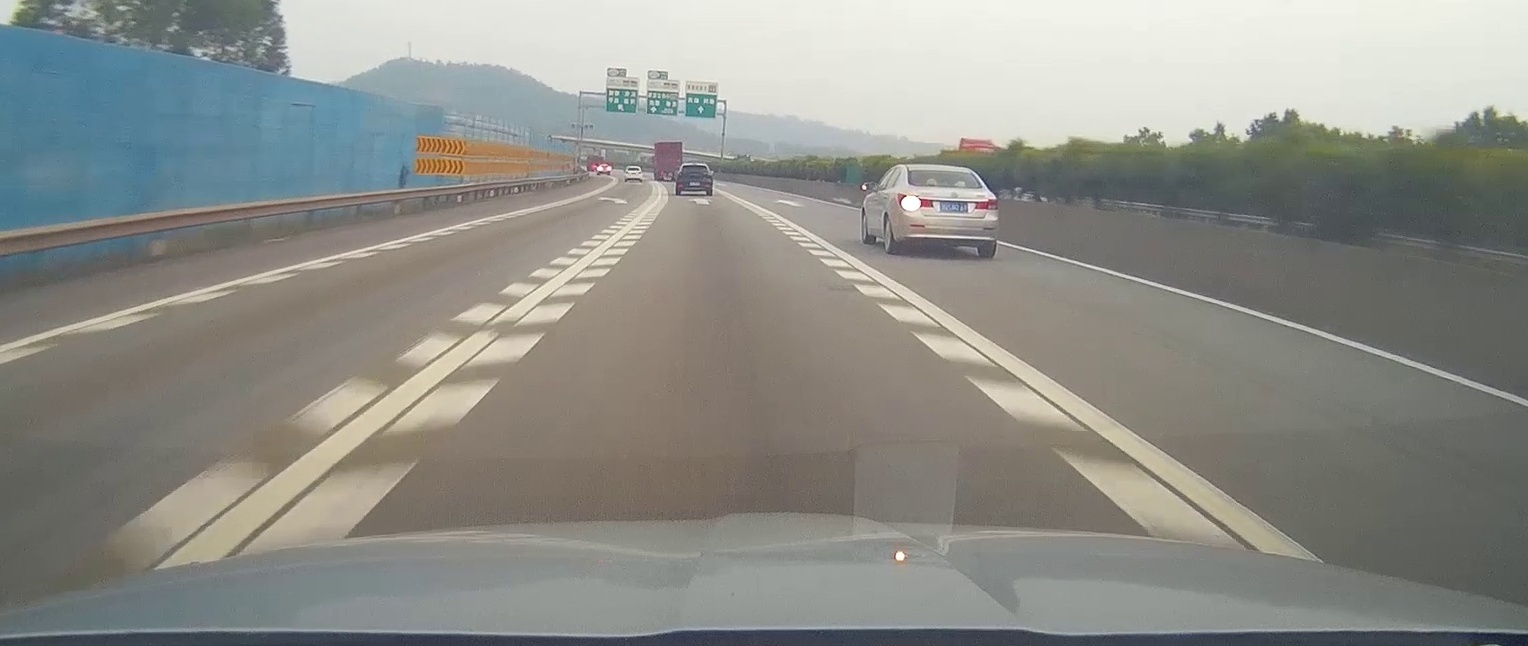L_light: (897, 192, 933, 208)
R_light: (974, 198, 998, 210)
T_light: (935, 171, 951, 175)
day-left: (896, 164, 1000, 258)
